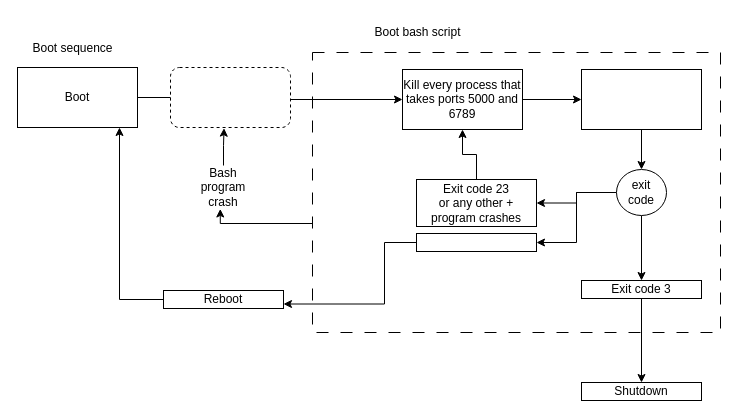
Some shapes in this 738 by 418 pixel diagram are drawn without their labels. Here are the shapes that lost their labels. From the top down, the box of each, then its label:
(170, 66, 290, 128): Linux Service
(580, 68, 702, 130): Boot main python srcipt
(416, 232, 536, 252): Exit code 2
